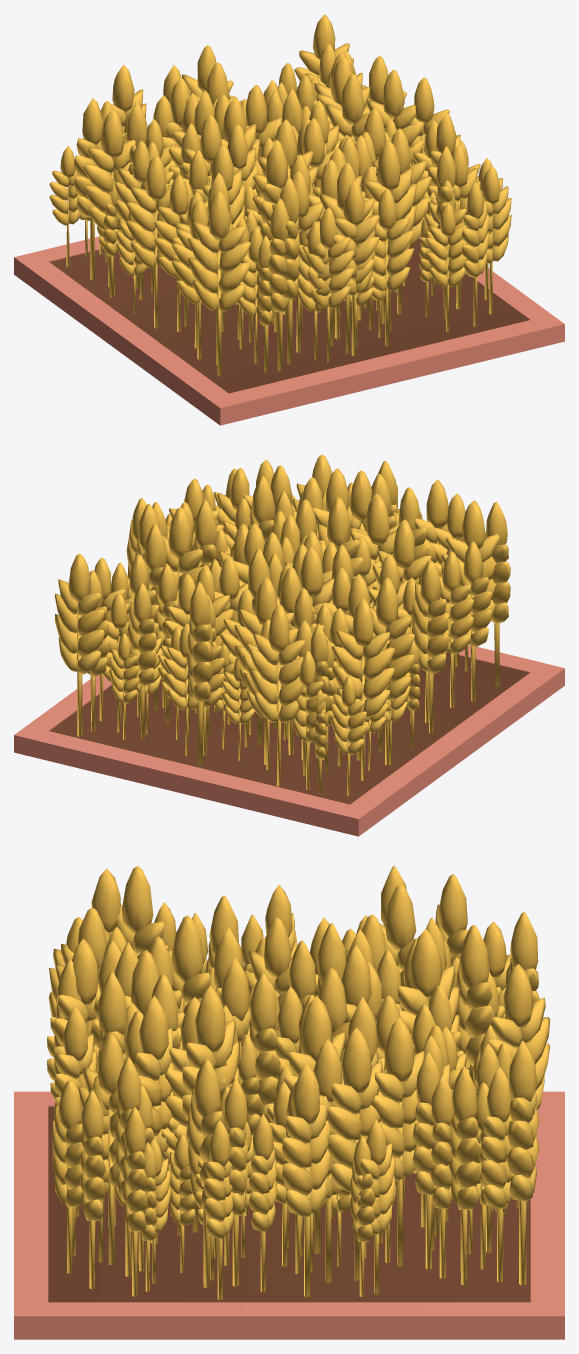
The model's file is Wheat.fbx.
The picture shows the model from 3 angles, top to bottom: view 1: azimuth 30°, elevation 25°; view 2: azimuth 150°, elevation 25°; view 3: azimuth 270°, elevation 25°; orthographic projection. The views are drawn at different scales.
Visible parts, largest first — view 1: Plane.002, FarmTile.001, Wheat1.001|BaseWheat.001|Dupli|71, Wheat1.001|BaseWheat.001|Dupli|10, Wheat1.001|BaseWheat.001|Dupli|35, Wheat1.001|BaseWheat.001|Dupli|140, Wheat1.001|BaseWheat.001|Dupli|12, Wheat1.001|BaseWheat.001|Dupli|33, Wheat1.001|BaseWheat.001|Dupli|85, Wheat1.001|BaseWheat.001|Dupli|141, Wheat1.001|BaseWheat.001|Dupli|120, Wheat1.001|BaseWheat.001|Dupli|146 (+55 smaller); view 2: FarmTile.001, Plane.002, Wheat1.001|BaseWheat.001|Dupli|82, Wheat1.001|BaseWheat.001|Dupli|2, Wheat1.001|BaseWheat.001|Dupli|97, Wheat1.001|BaseWheat.001|Dupli|35, Wheat1.001|BaseWheat.001|Dupli|10, Wheat1.001|BaseWheat.001|Dupli|119, Wheat1.001|BaseWheat.001|Dupli|41, Wheat1.001|BaseWheat.001|Dupli|134, Wheat1.001|BaseWheat.001|Dupli|21, Wheat1.001|BaseWheat.001|Dupli|71 (+65 smaller); view 3: FarmTile.001, Plane.002, Wheat1.001|BaseWheat.001|Dupli|109, Wheat1.001|BaseWheat.001|Dupli|111, Wheat1.001|BaseWheat.001|Dupli|68, Wheat1.001|BaseWheat.001|Dupli|2, Wheat1.001|BaseWheat.001|Dupli|, Wheat1.001|BaseWheat.001|Dupli|119, Wheat1.001|BaseWheat.001|Dupli|16, Wheat1.001|BaseWheat.001|Dupli|123, Wheat1.001|BaseWheat.001|Dupli|5, Wheat1.001|BaseWheat.001|Dupli|46 (+68 smaller).
Boxes of the visible parts, x1,y1,x2,y2 form: Plane.002: (49, 239, 529, 393); FarmTile.001: (14, 236, 564, 425); Wheat1.001|BaseWheat.001|Dupli|71: (187, 191, 250, 376); Wheat1.001|BaseWheat.001|Dupli|10: (83, 109, 135, 297); Wheat1.001|BaseWheat.001|Dupli|35: (126, 155, 171, 328); Wheat1.001|BaseWheat.001|Dupli|140: (372, 188, 414, 346); Wheat1.001|BaseWheat.001|Dupli|12: (302, 207, 354, 362); Wheat1.001|BaseWheat.001|Dupli|33: (425, 202, 467, 332); Wheat1.001|BaseWheat.001|Dupli|85: (363, 140, 416, 332); Wheat1.001|BaseWheat.001|Dupli|141: (318, 162, 379, 353); Wheat1.001|BaseWheat.001|Dupli|120: (461, 182, 489, 326); Wheat1.001|BaseWheat.001|Dupli|146: (333, 180, 375, 356); FarmTile.001: (14, 644, 564, 836); Plane.002: (49, 652, 529, 804); Wheat1.001|BaseWheat.001|Dupli|82: (249, 604, 304, 786); Wheat1.001|BaseWheat.001|Dupli|2: (54, 553, 104, 737); Wheat1.001|BaseWheat.001|Dupli|97: (332, 598, 395, 781); Wheat1.001|BaseWheat.001|Dupli|35: (412, 560, 448, 734); Wheat1.001|BaseWheat.001|Dupli|10: (365, 577, 414, 765); Wheat1.001|BaseWheat.001|Dupli|119: (187, 582, 212, 765); Wheat1.001|BaseWheat.001|Dupli|41: (439, 551, 473, 708); Wheat1.001|BaseWheat.001|Dupli|134: (127, 582, 156, 739); Wheat1.001|BaseWheat.001|Dupli|21: (460, 541, 491, 702); Wheat1.001|BaseWheat.001|Dupli|71: (485, 501, 510, 687); FarmTile.001: (14, 1091, 564, 1339); Plane.002: (48, 1107, 530, 1302); Wheat1.001|BaseWheat.001|Dupli|109: (282, 1063, 331, 1297); Wheat1.001|BaseWheat.001|Dupli|111: (371, 1017, 424, 1266); Wheat1.001|BaseWheat.001|Dupli|68: (327, 1027, 383, 1281); Wheat1.001|BaseWheat.001|Dupli|2: (506, 1040, 539, 1285); Wheat1.001|BaseWheat.001|Dupli|: (449, 1066, 481, 1285); Wheat1.001|BaseWheat.001|Dupli|119: (487, 964, 550, 1208); Wheat1.001|BaseWheat.001|Dupli|16: (480, 1067, 512, 1282); Wheat1.001|BaseWheat.001|Dupli|123: (182, 985, 239, 1140); Wheat1.001|BaseWheat.001|Dupli|5: (456, 924, 494, 1079); Wheat1.001|BaseWheat.001|Dupli|46: (134, 995, 175, 1243).
Size of the model in its own units: 1.09 by 0.6824 by 1.13.
1 material, 1 textured.
